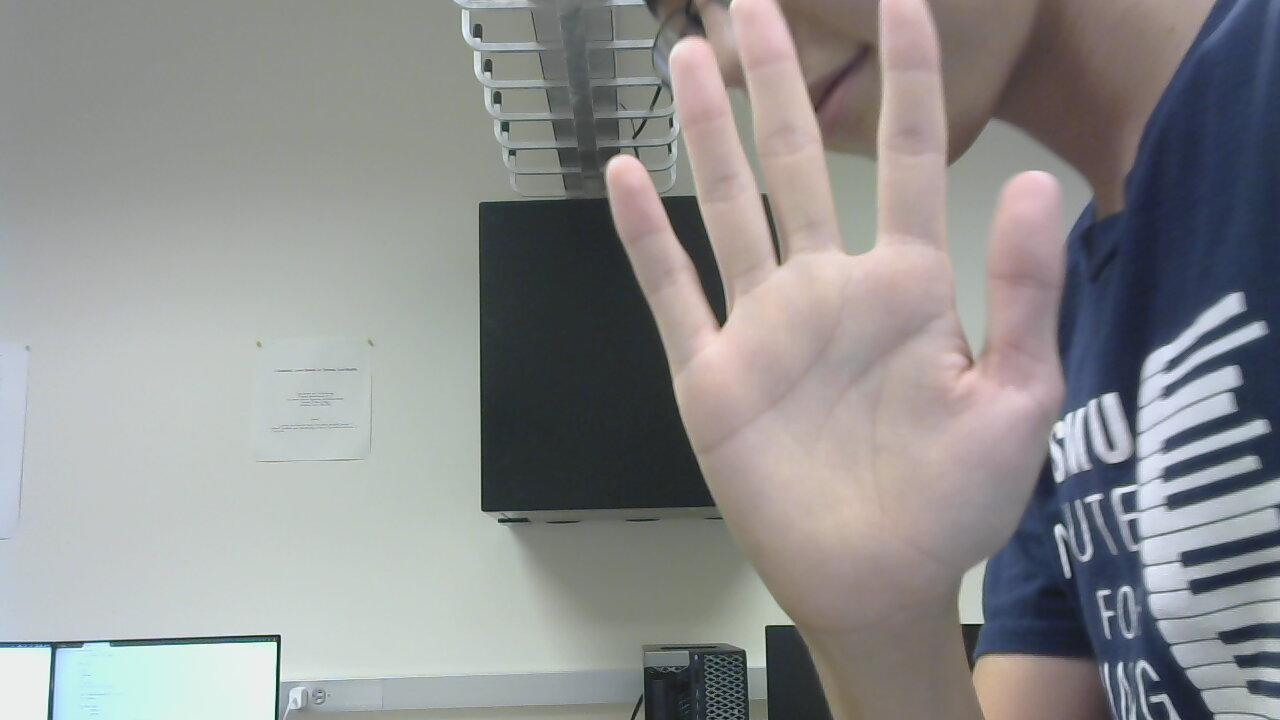hands: (609, 4, 1072, 610)
